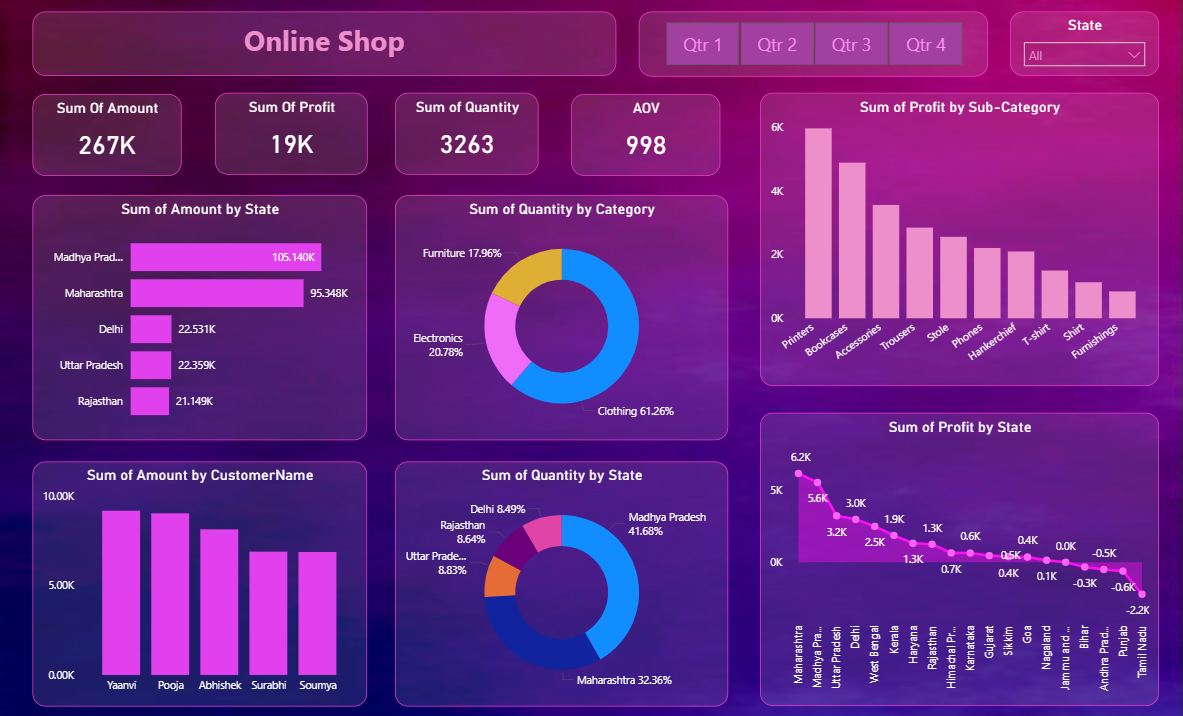

Layout of this report page (visuals, bound fields, positions):
{"tool":"powerbi","page":{"name":"Page 1","canvas":[1345,823],"ordinal":0},"visuals":[{"type":"barChart","fields":{"Category":["in.State"],"Y":["Sum(in (3).Amount)"]},"box":[17.3,224.9,382.1,279.7],"z":0},{"type":"donutChart","fields":{"Y":["Sum(in (3).Quantity)"],"Category":["in (2).Category"]},"box":[451.3,224.9,380.7,279.7],"z":1000},{"type":"card","title":"Sum Of Amount","fields":{"Values":["Sum(in (3).Amount)"]},"box":[18.7,107.1,170.1,93.7],"z":2000},{"type":"card","title":"Sum Of Profit","fields":{"Values":["Sum(in (3).Profit)"]},"box":[226.4,105.7,174.5,93.7],"z":3000},{"type":"card","title":"Sum of Quantity","fields":{"Values":["Sum(in (3).Quantity)"]},"box":[451.3,107.1,164.4,93.7],"z":4000},{"type":"card","title":"AOV","fields":{"Values":["in (3).AOV"]},"box":[653.2,105.7,170.1,93.7],"z":5000},{"type":"donutChart","fields":{"Y":["Sum(in (3).Quantity)"],"Category":["in.State"]},"box":[451.3,529.2,380.7,279.7],"z":6000},{"type":"columnChart","fields":{"Category":["in.CustomerName"],"Y":["Sum(in (3).Amount)"]},"box":[18.7,529.2,382.1,279.7],"z":7000},{"type":"areaChart","fields":{"Category":["in.State"],"Y":["Sum(in (3).Profit)"]},"box":[868,470.1,457.1,338.8],"z":8000},{"type":"columnChart","fields":{"Y":["Sum(in (3).Profit)"],"Category":["in (3).Sub-Category"]},"box":[868,105.3,457.1,337.4],"z":9000},{"type":"slicer","title":"State","fields":{"Values":["in.State"]},"box":[1155,14.4,170.1,73.5],"z":10000},{"type":"slicer","title":"State","fields":{"Values":["in.Order Date.Variation.Date Hierarchy.Quarter"]},"box":[738.3,14.4,399.4,73.5],"z":11000},{"type":"textbox","box":[18.7,14.4,686.3,73.5],"z":12000}]}

Visuals, with their boxes in screenshot pixels (x1, y1, x2, y2), scaled from the page's 1345x823 canvas onto the 1183x716 screenshot:
barChart - in.State x Sum(in (3).Amount): 15,196,351,439
donutChart - Sum(in (3).Quantity) x in (2).Category: 397,196,732,439
"Sum Of Amount" card: 16,93,166,175
"Sum Of Profit" card: 199,92,353,173
"Sum of Quantity" card: 397,93,542,175
"AOV" card: 575,92,724,173
donutChart - Sum(in (3).Quantity) x in.State: 397,460,732,704
columnChart - in.CustomerName x Sum(in (3).Amount): 16,460,353,704
areaChart - in.State x Sum(in (3).Profit): 763,409,1165,704
columnChart - Sum(in (3).Profit) x in (3).Sub-Category: 763,92,1165,385
"State" slicer: 1016,13,1165,76
"State" slicer: 649,13,1001,76
textbox: 16,13,620,76
